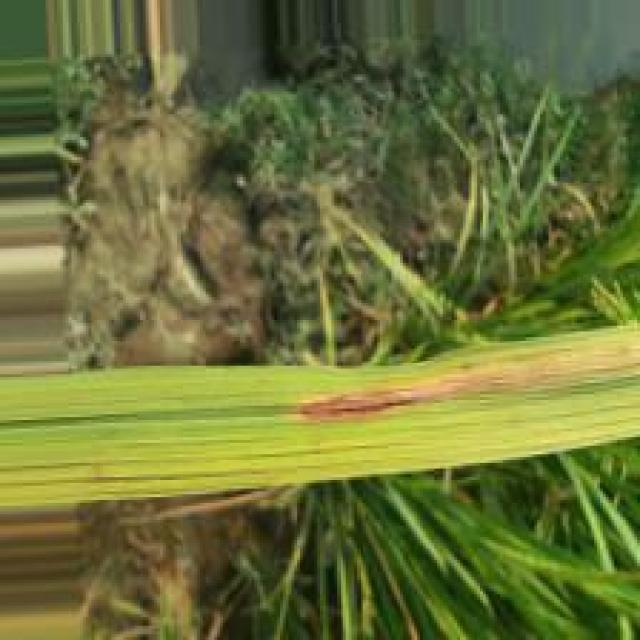Leaf_Blast: (286, 332, 638, 434)
